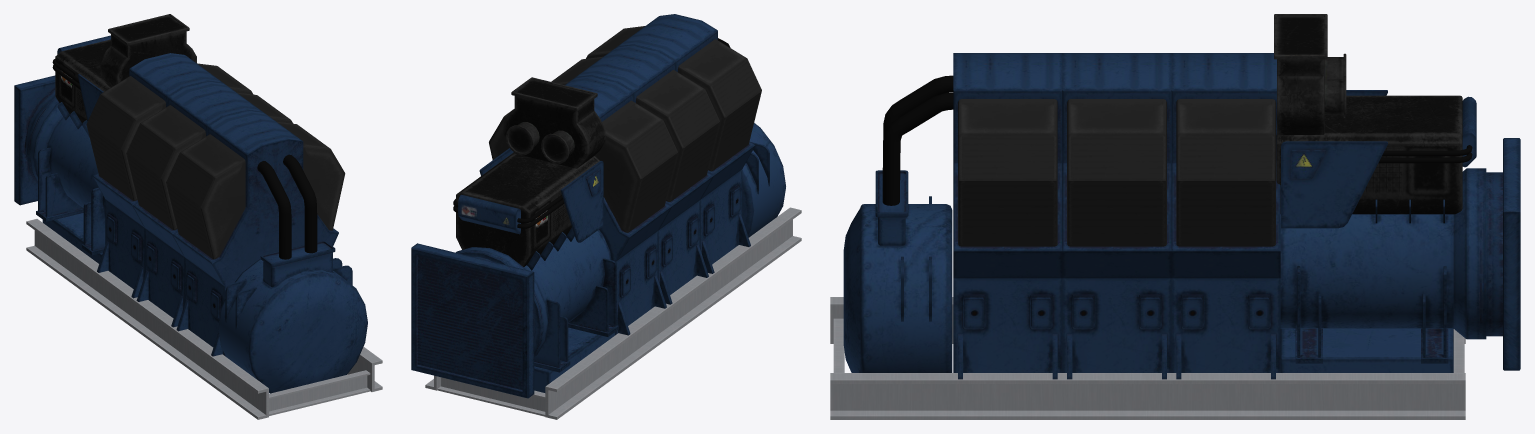
The model's file is generator.glb.
3 renders of one model, left to right at view 1: azimuth 30°, elevation 25°; view 2: azimuth 150°, elevation 25°; view 3: azimuth 270°, elevation 25°, orthographic. The views are drawn at different scales.
Visible parts, largest first — view 1: SM_BigGen; view 2: SM_BigGen; view 3: SM_BigGen.
Boxes of the visible parts, x1,y1,x2,y2 form: SM_BigGen: [14, 14, 382, 419]; SM_BigGen: [411, 14, 801, 419]; SM_BigGen: [830, 14, 1520, 419].
Size of the model in its own units: 1.55 by 2.6 by 4.67.
1 material, 1 textured.
